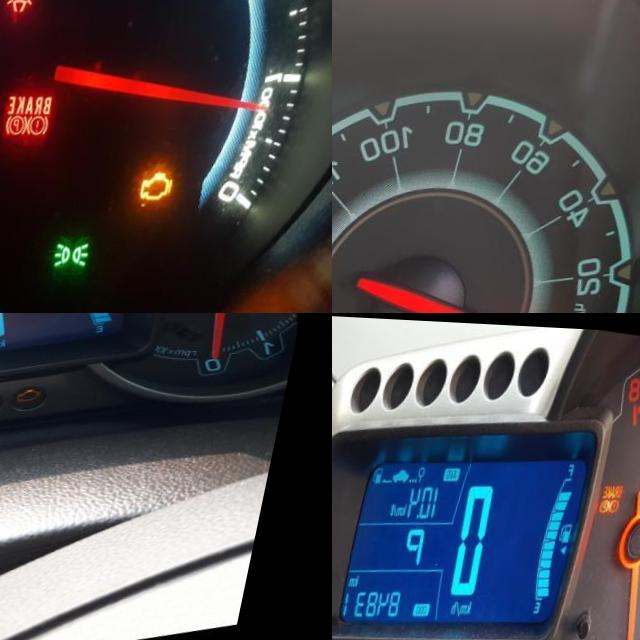SideLamp: (74, 236, 113, 266)
